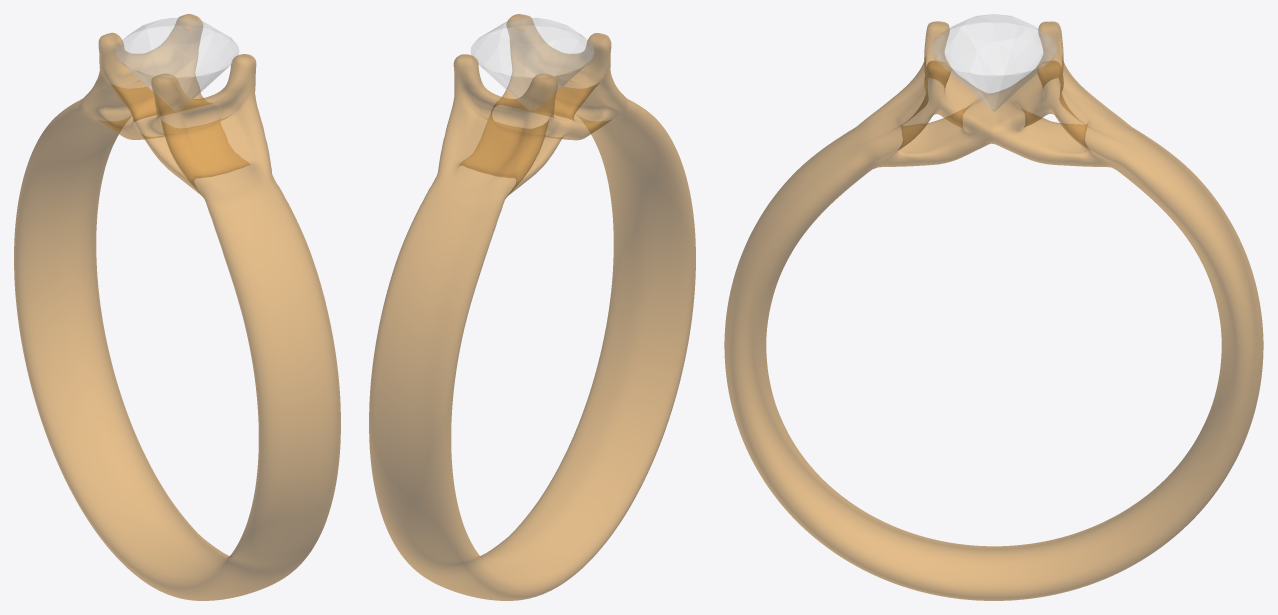
3 views of the same model, side by side, from view 1: azimuth 30°, elevation 25°; view 2: azimuth 150°, elevation 25°; view 3: azimuth 270°, elevation 25° (orthographic). The views are drawn at different scales.
Parts seen in each view (by area): view 1: VR103; view 2: VR103; view 3: VR103.
Part boxes in pixels (x1,y1,x2,y2): VR103: (14,14,340,600); VR103: (369,14,695,600); VR103: (724,14,1263,600).
Size of the model in its own units: 0.5452 by 2.67 by 2.32.
